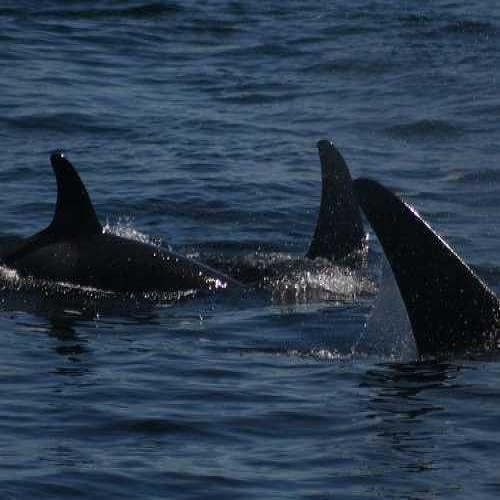killer_whale-endangered: (0, 143, 269, 341), (336, 176, 500, 401), (284, 127, 376, 301)
